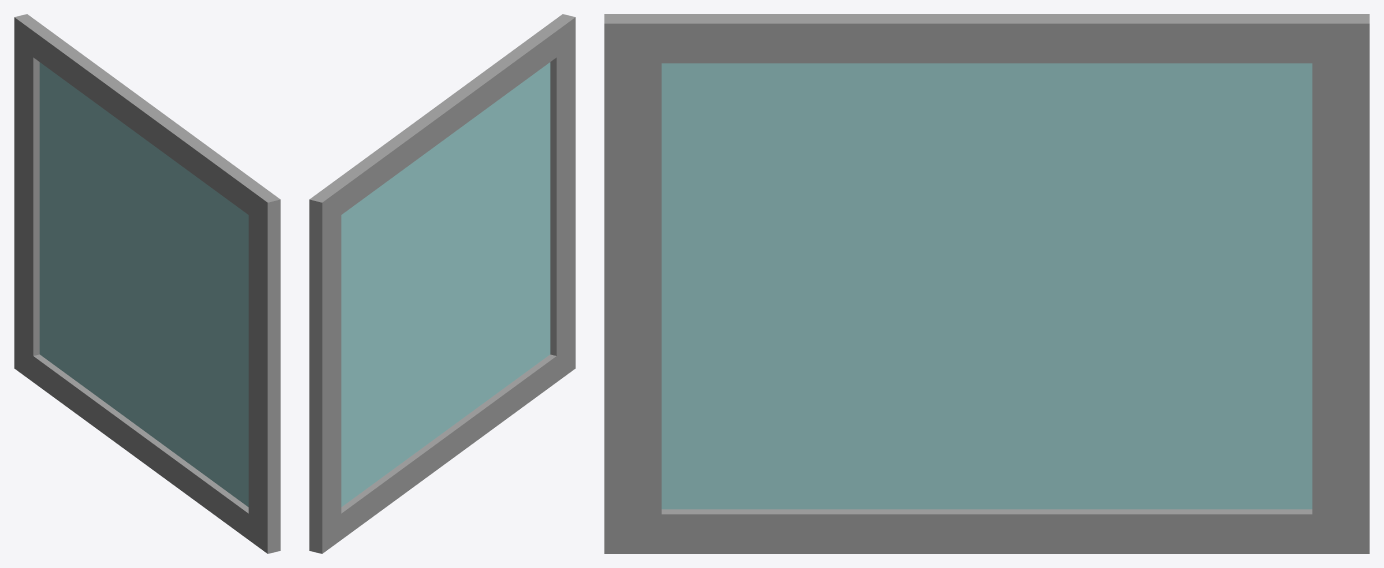
The model's file is window (move).dae.
3 views of the same model, side by side, from view 1: azimuth 30°, elevation 25°; view 2: azimuth 150°, elevation 25°; view 3: azimuth 270°, elevation 25° (orthographic). The views are drawn at different scales.
Parts seen in each view (by area): view 1: Cube.001; view 2: Cube.001; view 3: Cube.001.
Part boxes in pixels (x1,y1,x2,y2): Cube.001: [14, 14, 280, 553]; Cube.001: [309, 14, 575, 553]; Cube.001: [604, 14, 1369, 553].
Size of the model in its own units: 0.1 by 3.4 by 2.6.
